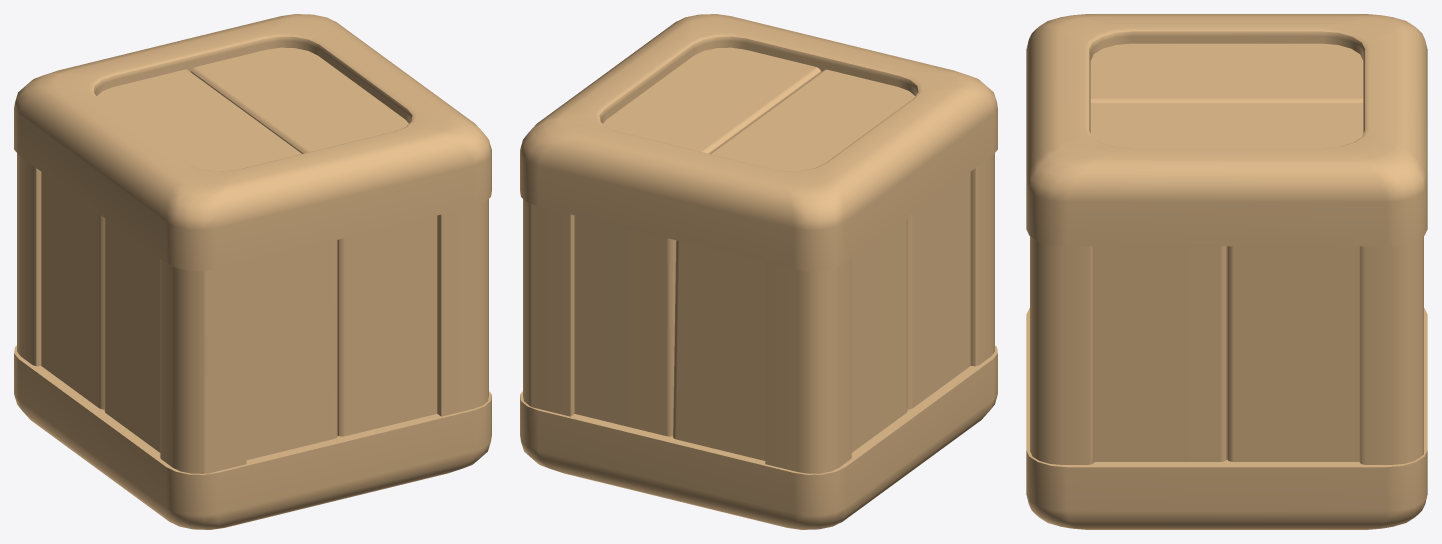
3 renders of one model, left to right at view 1: azimuth 30°, elevation 25°; view 2: azimuth 150°, elevation 25°; view 3: azimuth 270°, elevation 25°, orthographic. The views are drawn at different scales.
Visible parts, largest first — view 1: Box; view 2: Box; view 3: Box.
Part boxes in pixels (<box>): Box: <box>14,14,491,529</box>; Box: <box>520,14,997,529</box>; Box: <box>1026,14,1427,529</box>.
Bounding box in the file's own units: 0.0116 × 0.0117 × 0.0116.
